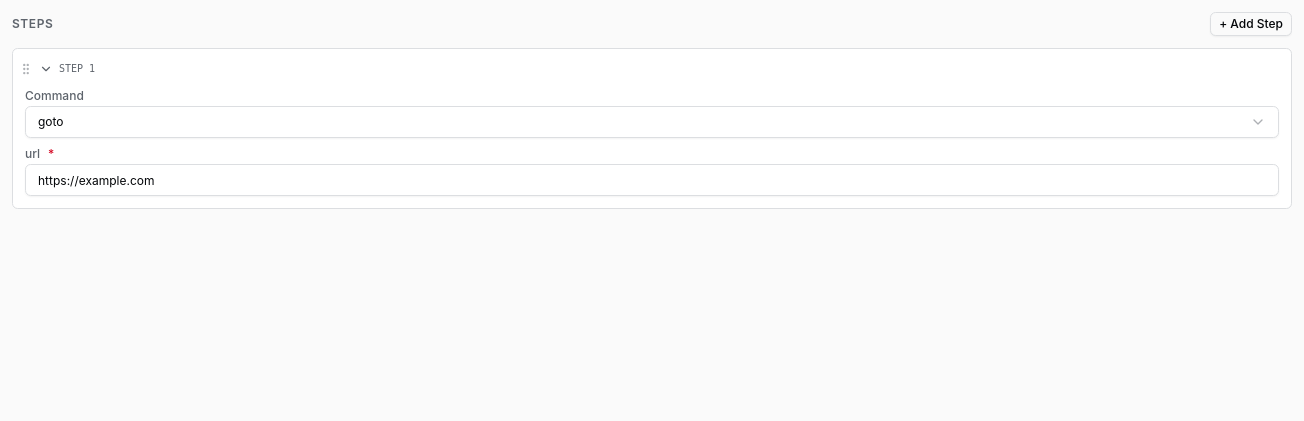
Test: StepBuilder › adding steps › renders the appended step
Click the button "+ Add Step" at (1251, 24), box [1210, 12, 1292, 36]
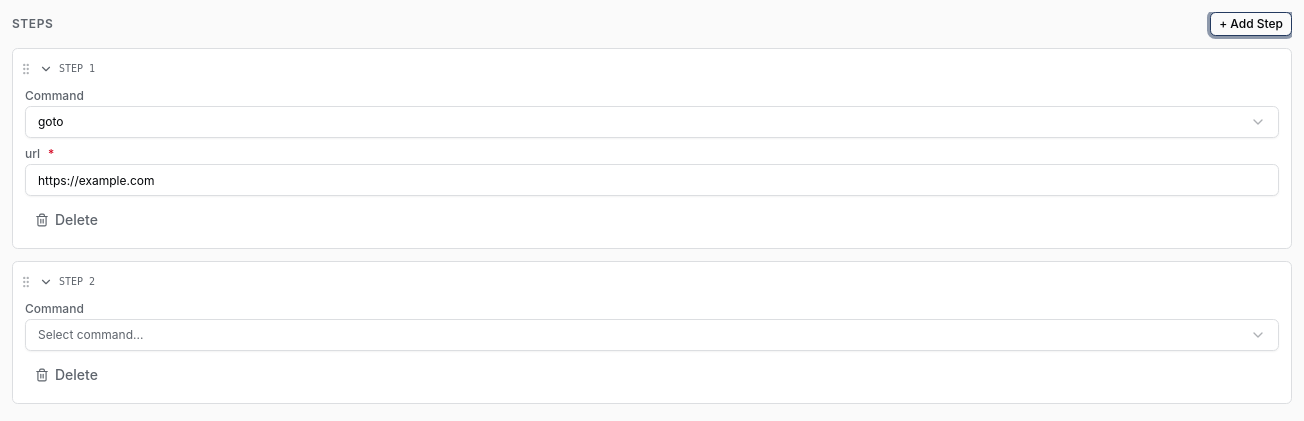
Check: the number of buttons "STEP 1" is 2, box [39, 49, 1291, 88]; [39, 262, 1291, 301]
